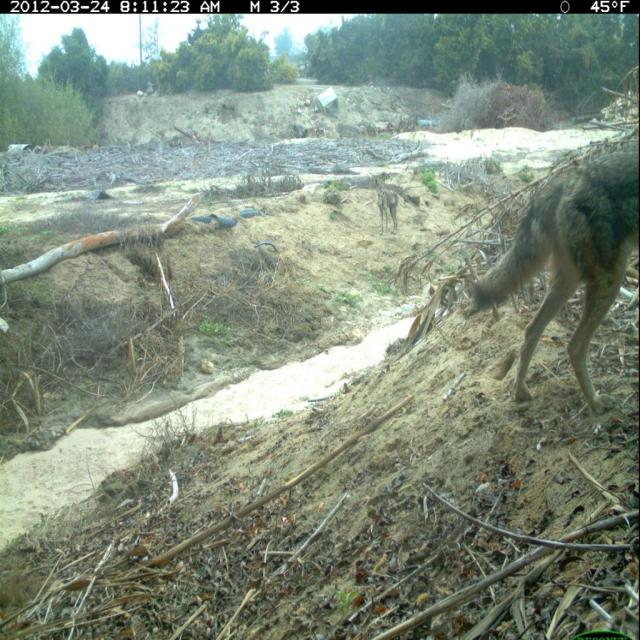coyote: (460, 131, 640, 428), (374, 173, 400, 238)
